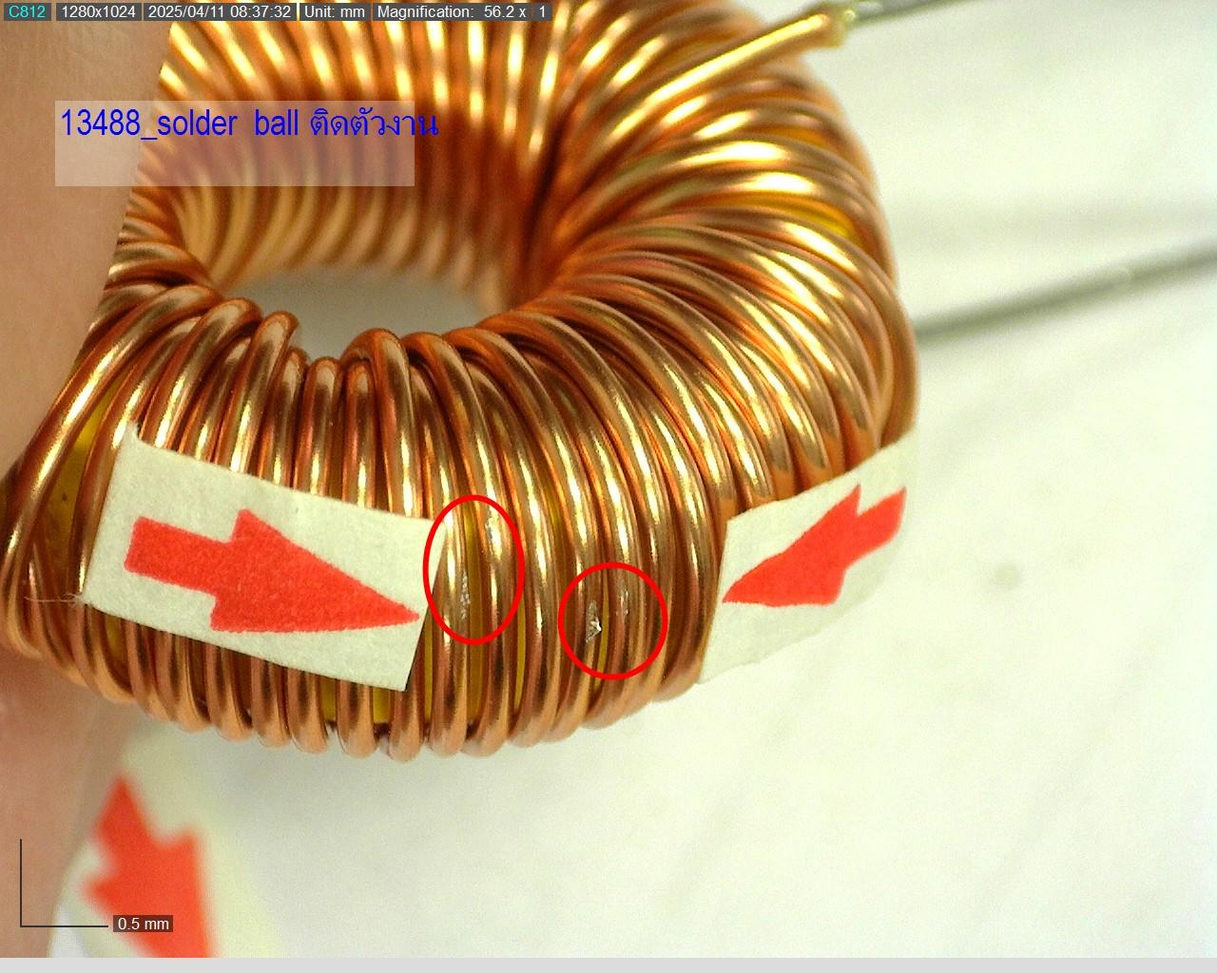solder ball: (574, 590, 639, 652), (449, 561, 482, 623)
